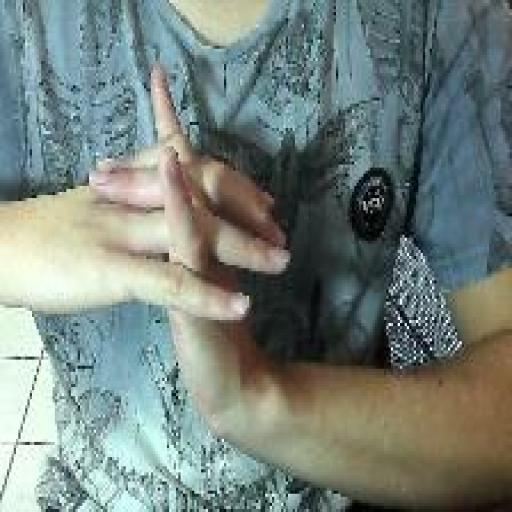Ushi -ox-: (86, 60, 294, 456)
